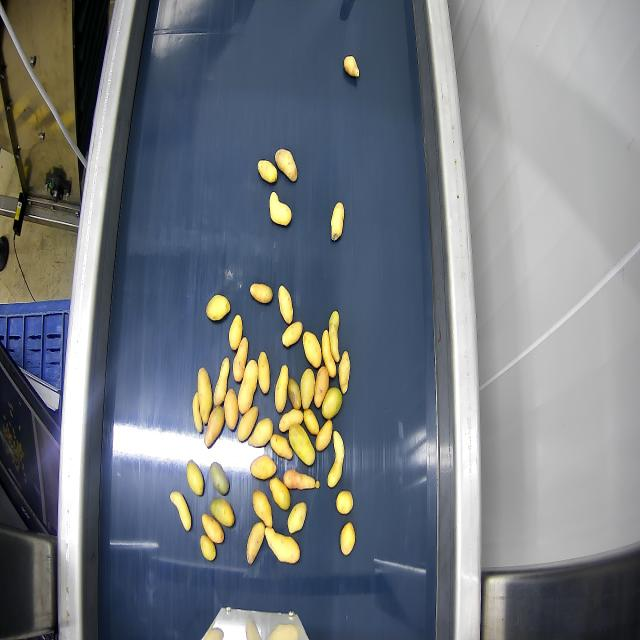Baby Potato: (265, 528, 299, 563), (289, 424, 315, 465), (238, 361, 257, 414), (328, 431, 344, 487), (170, 491, 191, 531), (197, 368, 212, 423), (213, 358, 229, 406), (205, 407, 224, 447), (269, 192, 291, 226), (252, 490, 272, 527), (275, 149, 297, 182), (248, 418, 273, 447), (246, 523, 264, 563), (321, 330, 336, 377), (210, 498, 234, 527), (283, 470, 319, 489), (270, 478, 290, 511), (250, 455, 276, 480), (238, 407, 257, 441), (233, 336, 247, 382), (202, 514, 224, 543), (303, 332, 321, 367), (210, 463, 229, 496), (275, 365, 288, 413), (322, 388, 342, 419), (300, 368, 315, 409), (206, 295, 230, 320), (186, 461, 203, 495), (314, 366, 328, 407), (224, 389, 238, 430), (278, 286, 293, 324), (288, 502, 306, 533), (279, 409, 303, 432), (270, 434, 292, 459), (282, 321, 302, 347), (329, 311, 339, 361), (316, 420, 332, 451), (340, 522, 355, 555), (331, 202, 344, 240), (258, 160, 278, 184), (229, 315, 242, 351), (258, 352, 269, 394), (250, 283, 272, 303), (192, 392, 203, 432), (339, 351, 349, 393), (303, 409, 319, 435), (288, 378, 301, 409), (336, 491, 353, 514), (200, 535, 215, 561), (344, 57, 358, 78)
